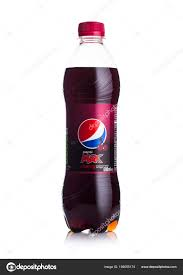bottle: (64, 18, 124, 234)
plastic: (67, 21, 124, 241)
